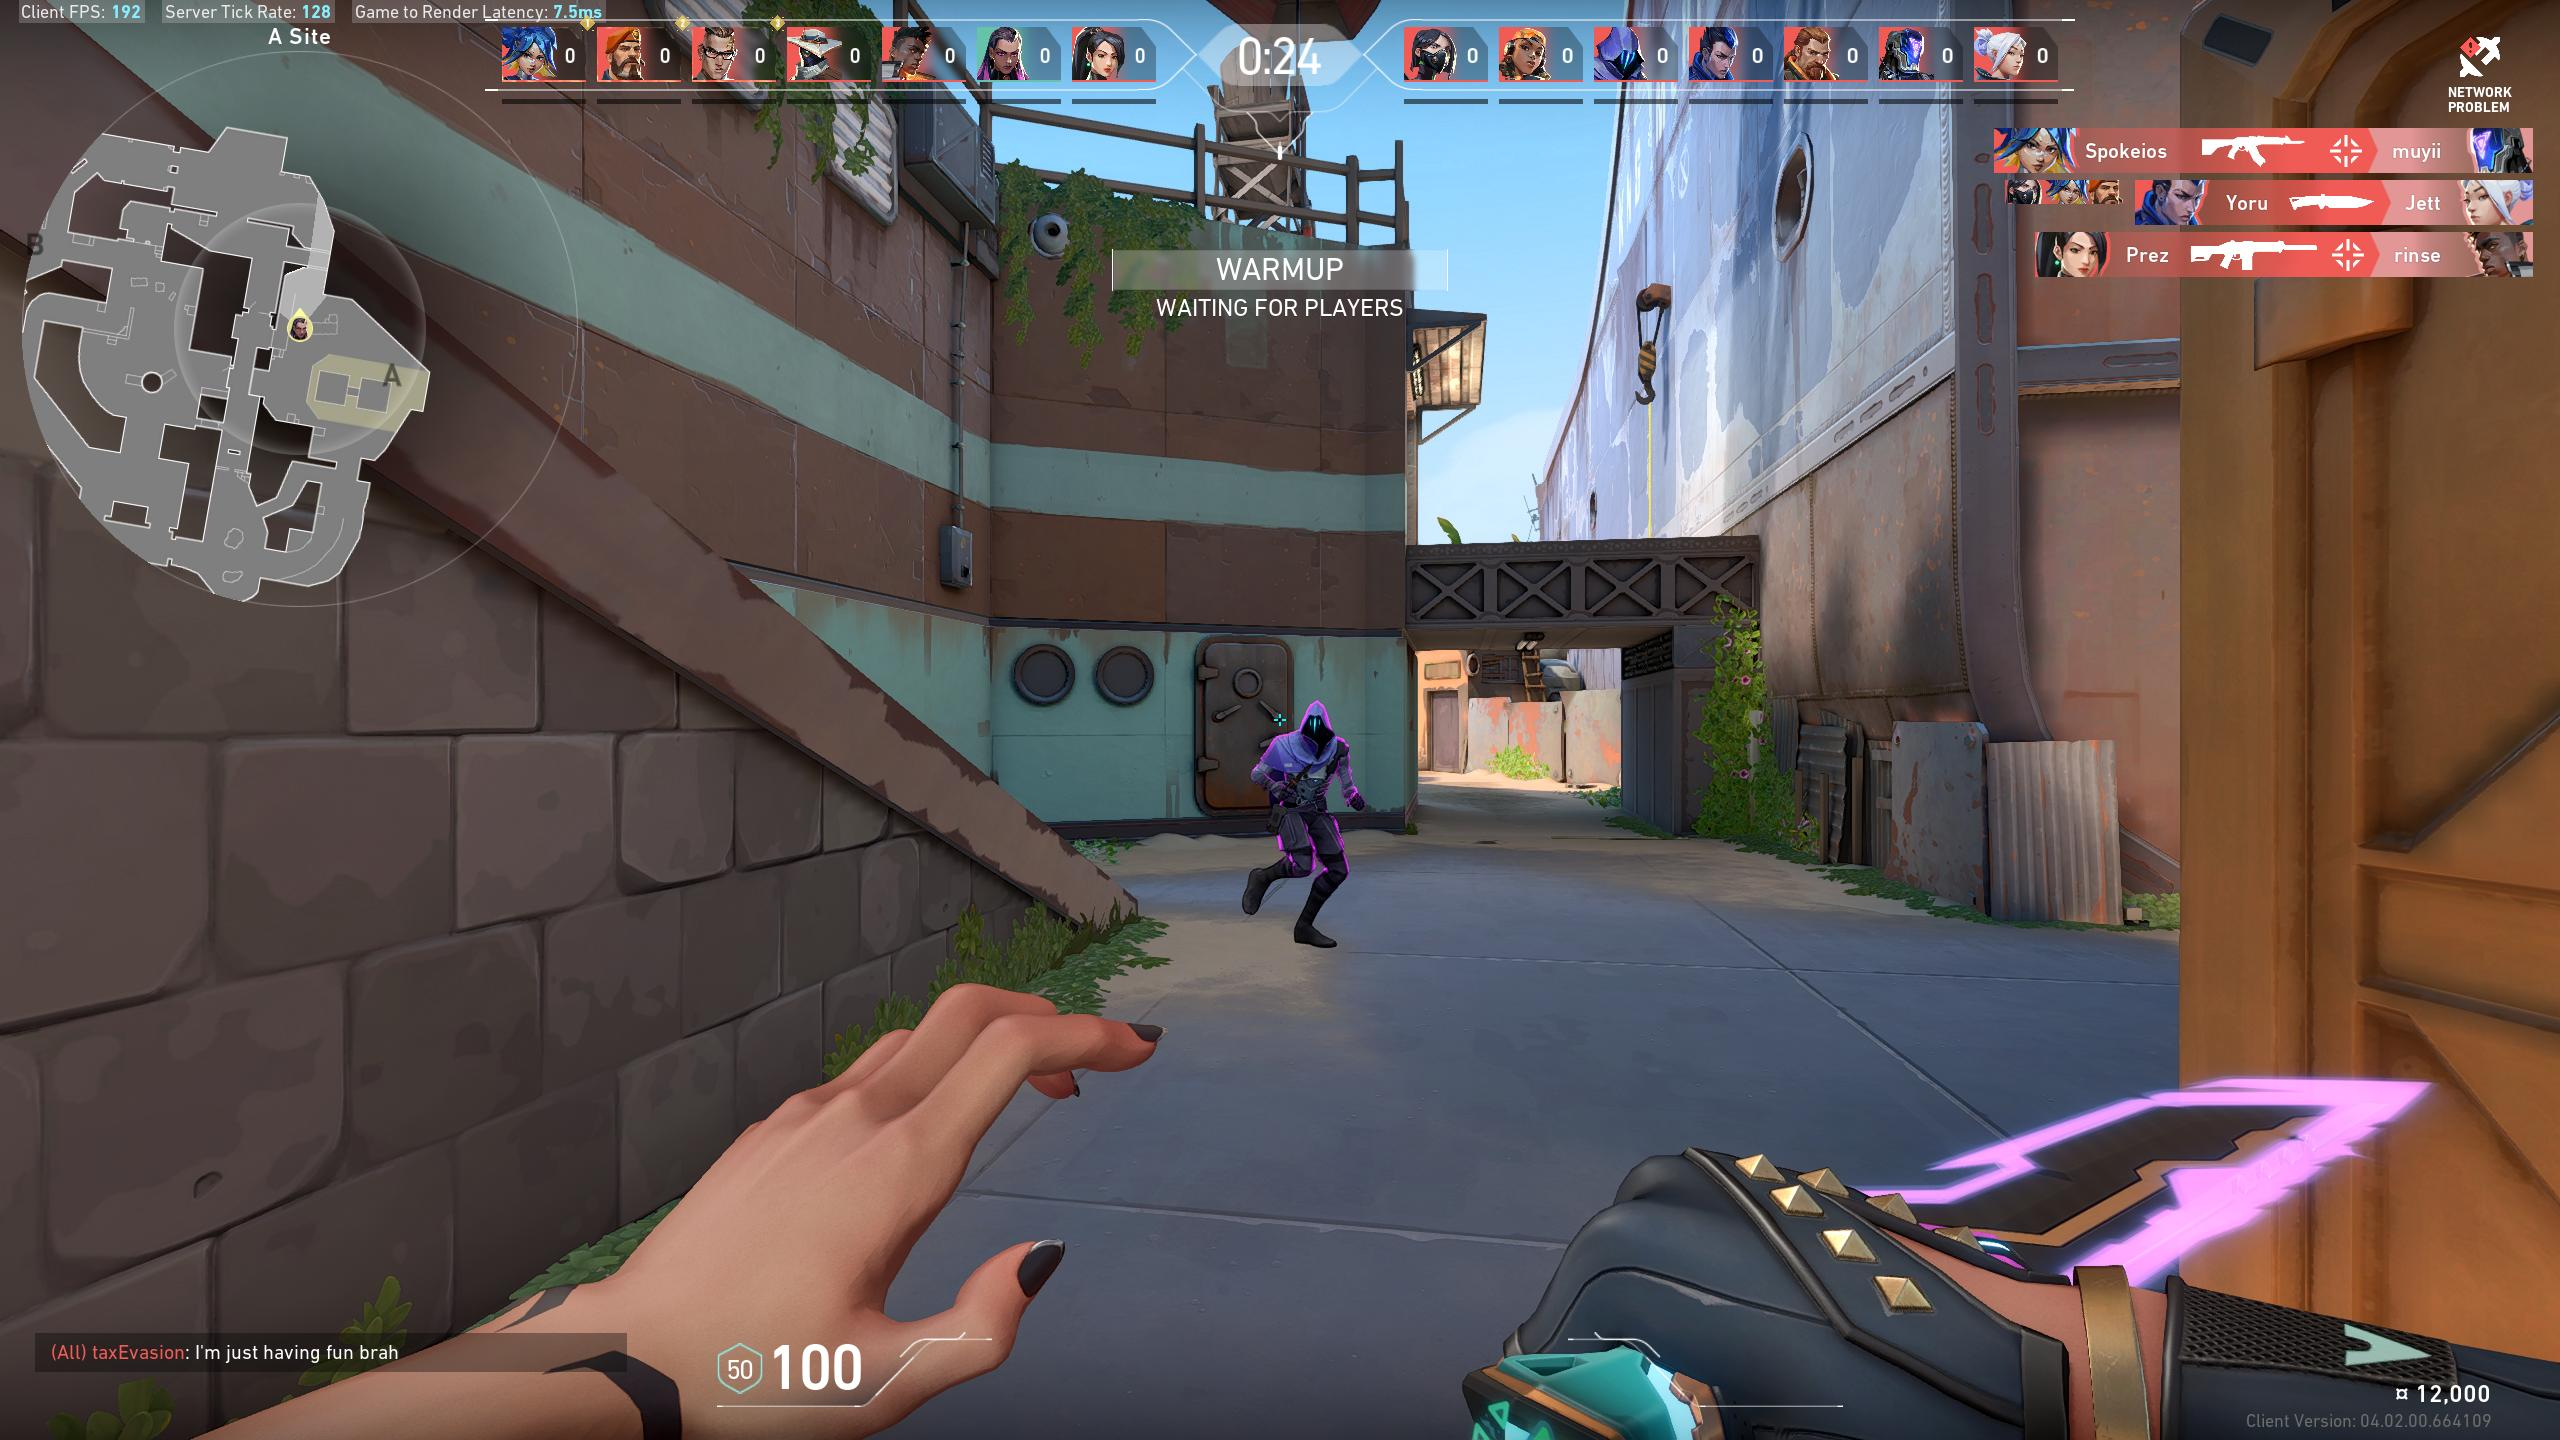enemyBody: (1284, 740, 1329, 804)
enemyHead: (1306, 710, 1326, 735)
